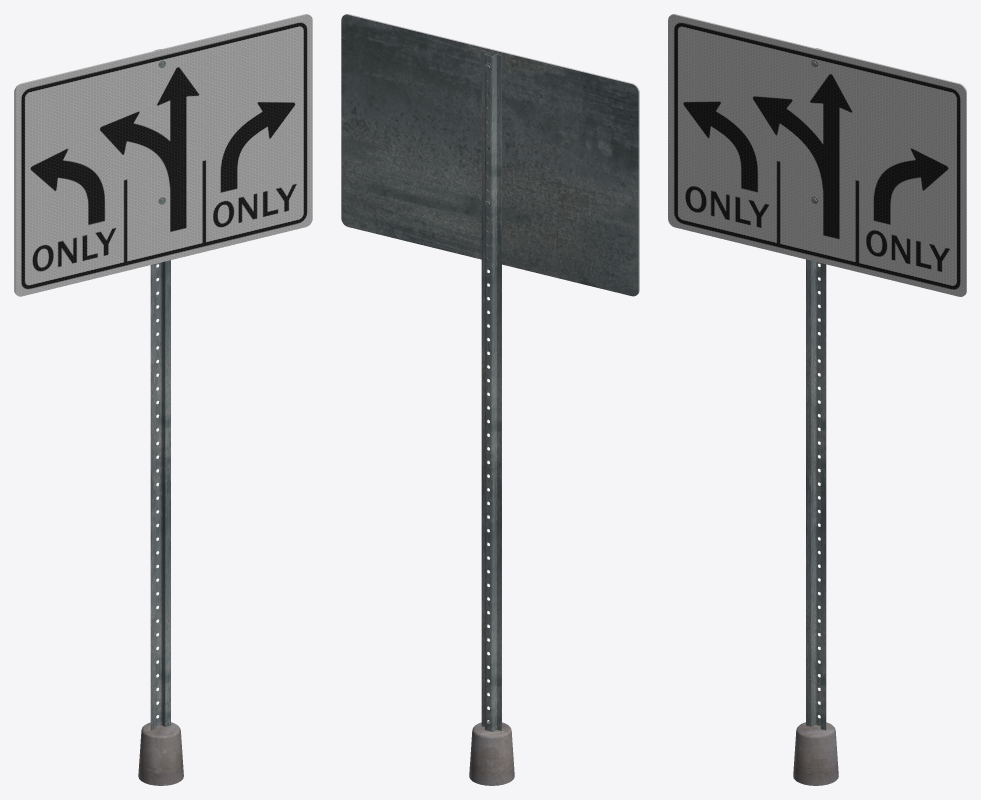
The model's file is turnarrows1_nsoc.obj.
3 views of the same model, side by side, from view 1: azimuth 30°, elevation 25°; view 2: azimuth 150°, elevation 25°; view 3: azimuth 330°, elevation 25° (orthographic).
Parts seen in each view (by area): view 1: sign_turn_arrows_6; view 2: sign_turn_arrows_6; view 3: sign_turn_arrows_6.
Boxes of the visible parts, x1=… form: sign_turn_arrows_6: x1=14, y1=14, x2=312, y2=785; sign_turn_arrows_6: x1=341, y1=14, x2=639, y2=785; sign_turn_arrows_6: x1=668, y1=14, x2=966, y2=785.
Bounding box in the file's own units: 44 × 103 × 5.84.
3 materials, 3 textured.
